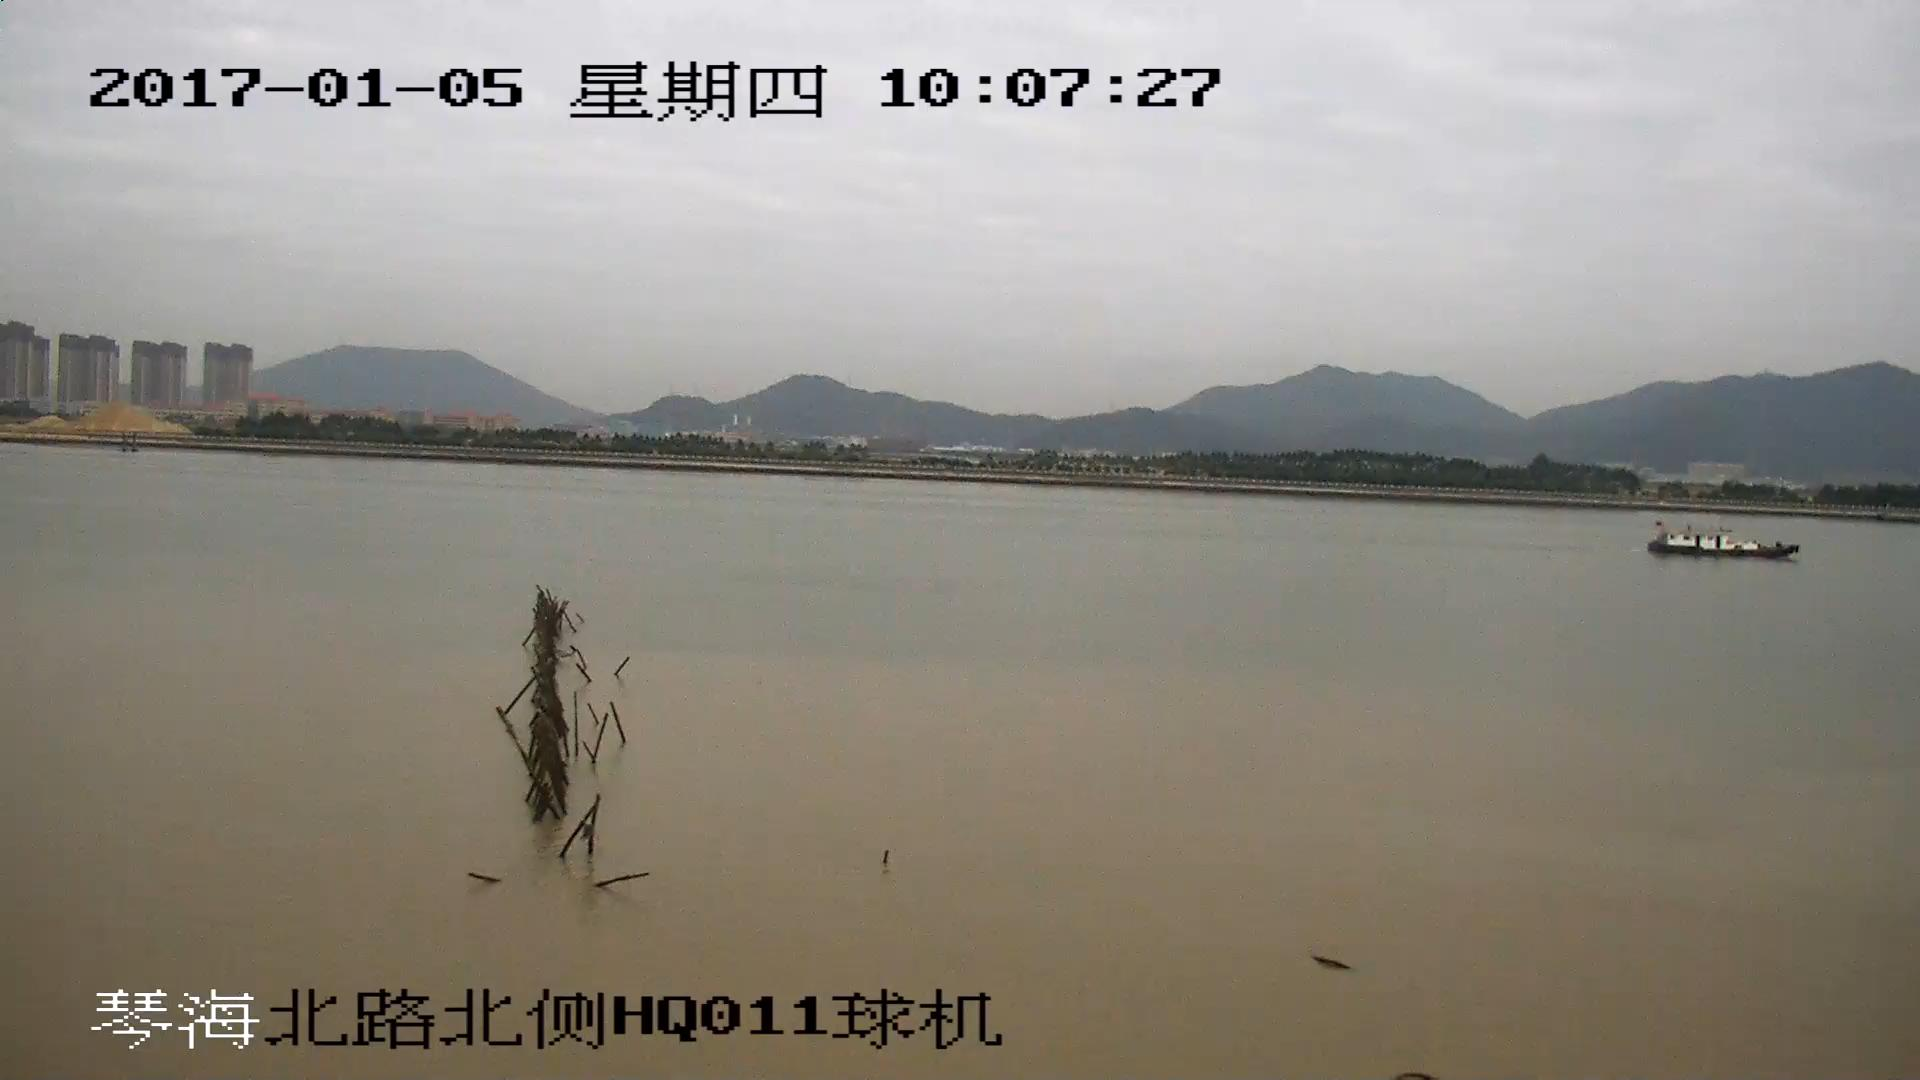fishing boat: (1646, 521, 1801, 561)
